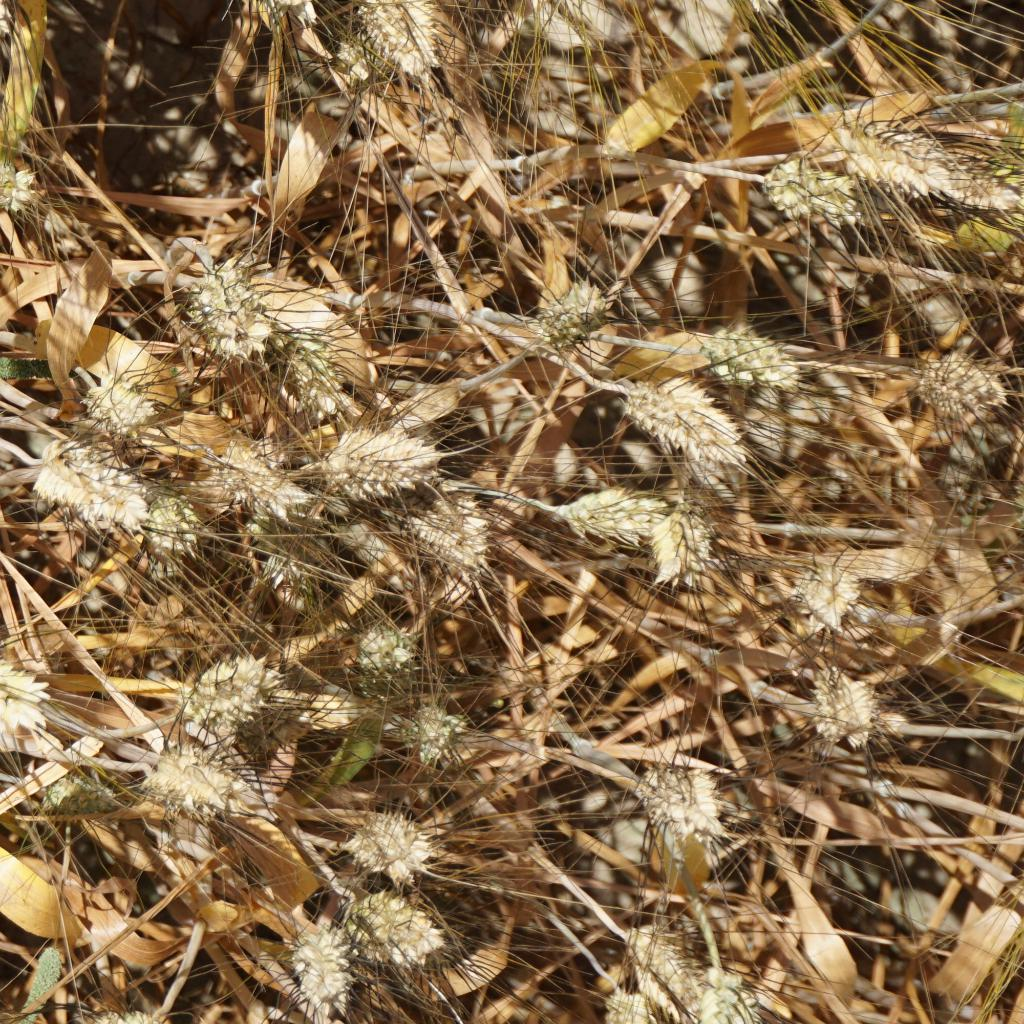0-0: (611, 365, 749, 472), (242, 479, 345, 616), (34, 429, 163, 530), (180, 645, 290, 752), (634, 756, 743, 863), (840, 126, 988, 196), (283, 331, 371, 436), (641, 493, 723, 598), (746, 155, 857, 231), (408, 502, 503, 590), (621, 911, 707, 1008), (359, 888, 456, 972), (190, 260, 268, 364), (347, 796, 443, 880), (214, 449, 325, 521), (292, 927, 373, 1024), (122, 752, 236, 820), (351, 0, 449, 78), (73, 358, 160, 443), (335, 422, 433, 492), (547, 483, 651, 547), (815, 659, 888, 749), (786, 548, 867, 628), (704, 327, 795, 396), (918, 361, 1009, 425), (0, 630, 51, 740), (679, 950, 753, 1024), (392, 698, 472, 764), (129, 483, 196, 559), (533, 280, 621, 334), (25, 768, 116, 820), (355, 615, 429, 676), (0, 153, 51, 220), (588, 978, 642, 1024), (0, 0, 22, 85)
